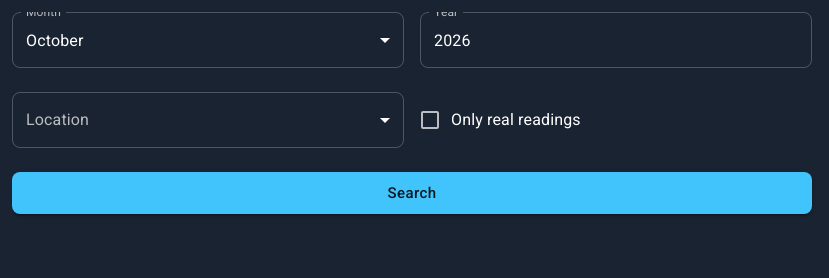
Test: RainlogFilters › Validation › shows validation error for empty year
The image size is (829, 278).
Clear the number field labelled "Year" at (616,40), box [420,12,812,68]
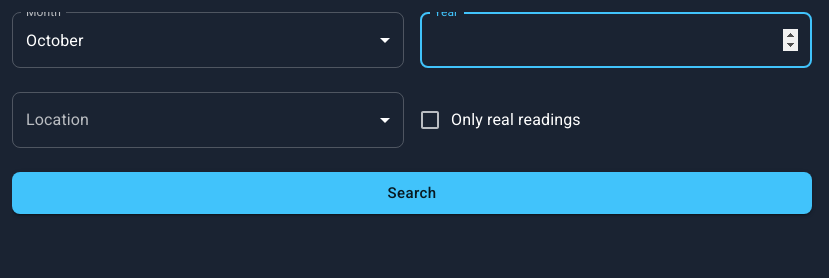
Click the button "Search".
click(412, 193)  # box [12,172,812,214]
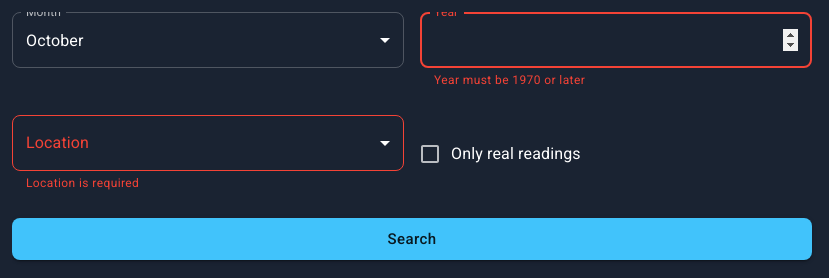
Check: the text "Year must be 1970 or later" is shown, box [434,73,585,87]
